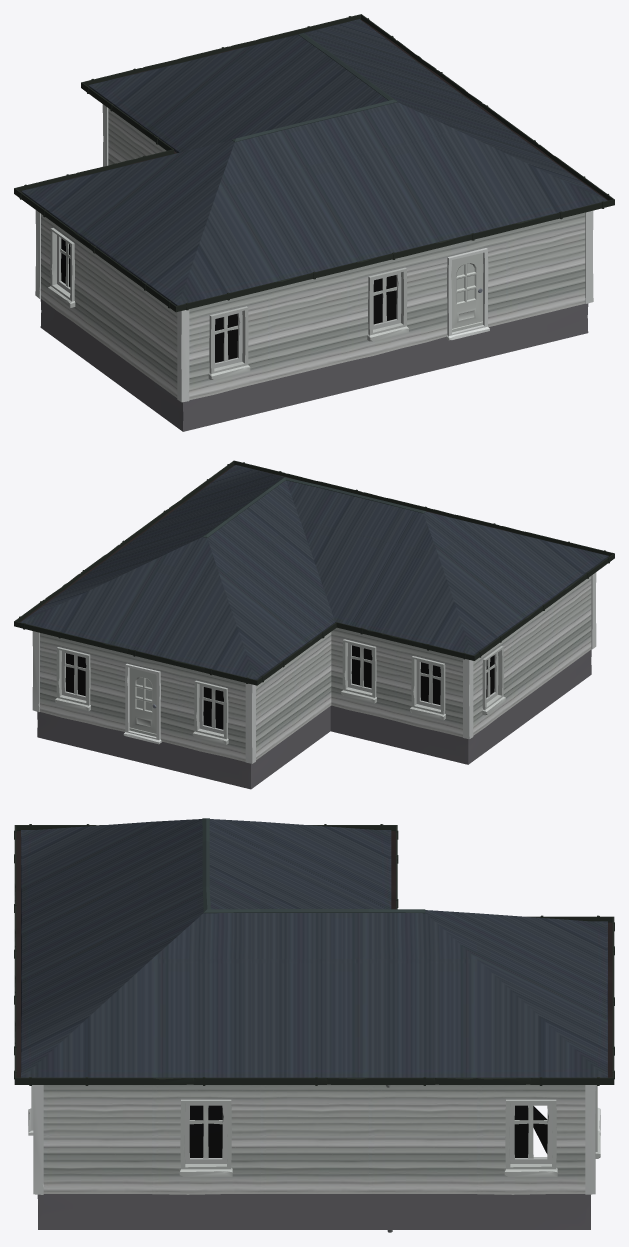
Rendered from Suburban House.glb.
3 views of the same model, one above another, from view 1: azimuth 30°, elevation 25°; view 2: azimuth 150°, elevation 25°; view 3: azimuth 270°, elevation 25° (orthographic). The views are drawn at different scales.
Parts seen in each view (by area): view 1: suburban-house_1; view 2: suburban-house_1; view 3: suburban-house_1.
Part boxes in pixels (x1=…): suburban-house_1: x1=14, y1=14, x2=614, y2=431; suburban-house_1: x1=14, y1=460, x2=614, y2=789; suburban-house_1: x1=14, y1=818, x2=614, y2=1232.
Bounding box in the file's own units: 1 × 0.4655 × 1.
Materials: 1 (1 with a texture image).
